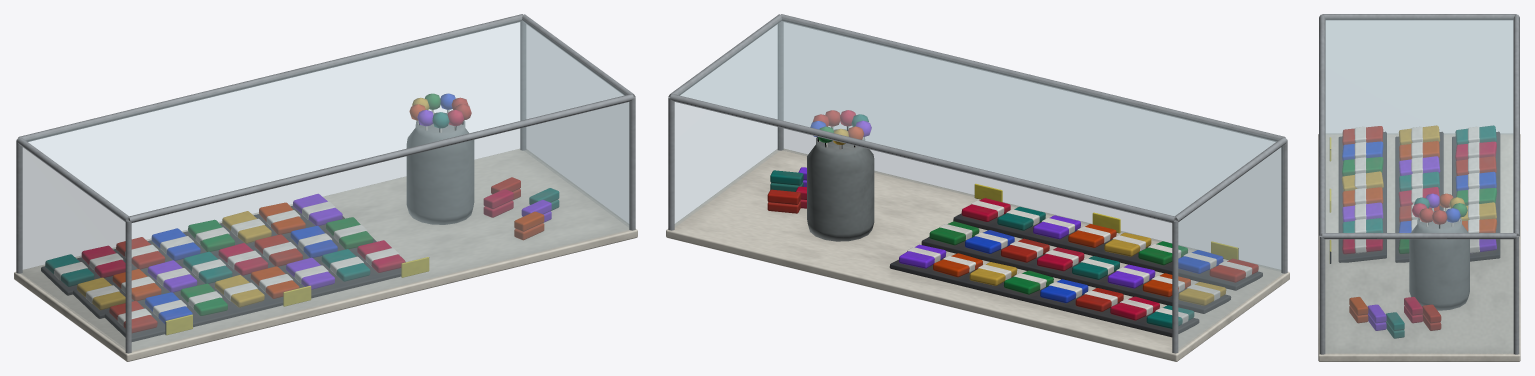
The model's file is sklep_gablota.glb.
3 views of the same model, side by side, from view 1: azimuth 30°, elevation 25°; view 2: azimuth 150°, elevation 25°; view 3: azimuth 270°, elevation 25° (orthographic). The views are drawn at different scales.
Visible parts, largest first — view 1: Szklo, Gablota; view 2: Szklo, Gablota; view 3: Szklo, Gablota.
Part boxes in pixels (box(x1,y1,x2,y2)): Szklo: box(20, 18, 629, 351); Gablota: box(14, 14, 637, 361); Szklo: box(675, 18, 1283, 350); Gablota: box(666, 14, 1289, 361); Szklo: box(1325, 18, 1513, 353); Gablota: box(1318, 14, 1520, 361).
Size of the model in its own units: 1.3 by 0.3469 by 0.5.
2 materials, 1 textured.
